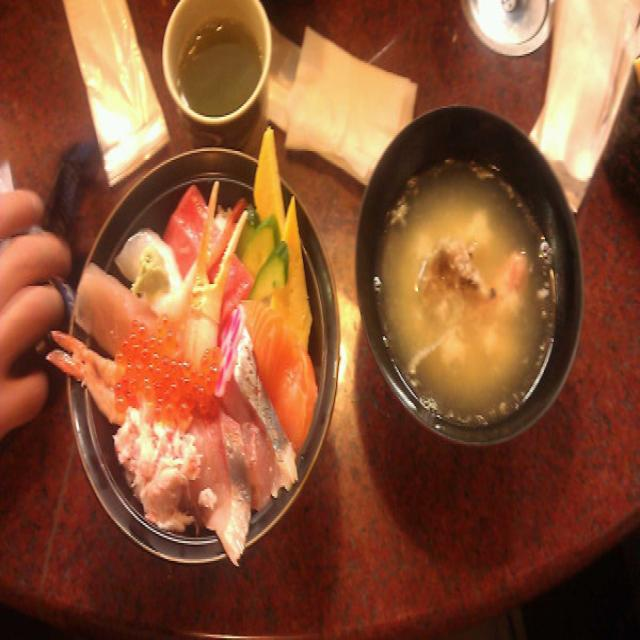刺身生食: (35, 86, 350, 559)
汤锅炖物: (375, 113, 590, 457)
